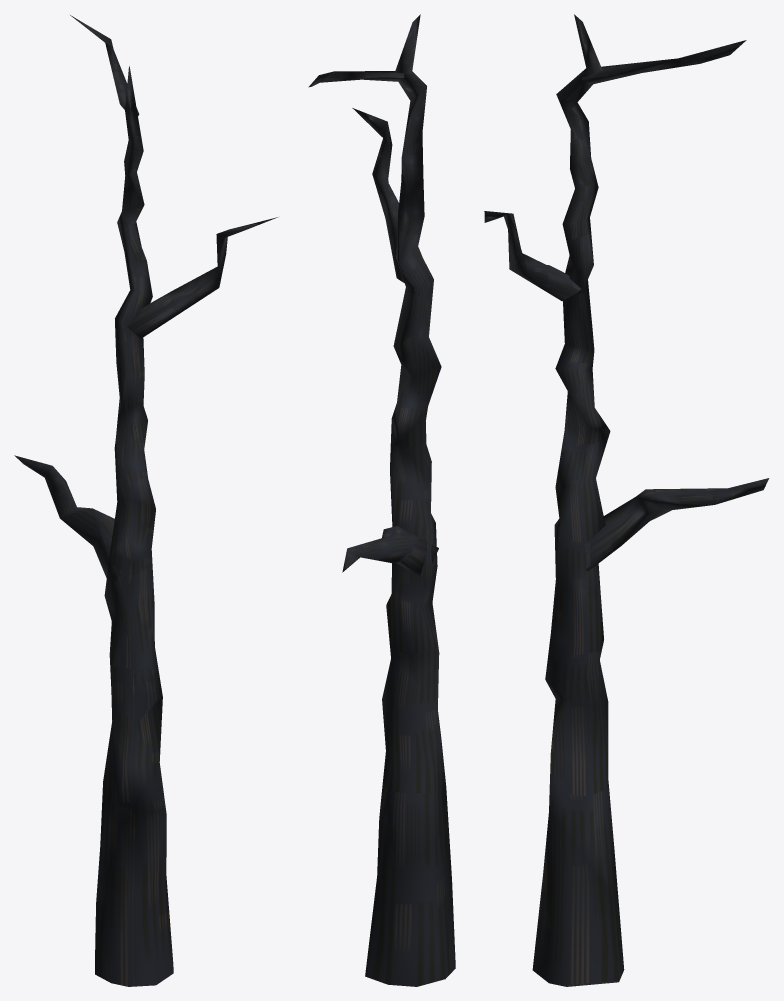
File: Branch1.fbx
3 renders of one model, left to right at view 1: azimuth 30°, elevation 25°; view 2: azimuth 150°, elevation 25°; view 3: azimuth 270°, elevation 25°, orthographic. The views are drawn at different scales.
Visible parts, largest first — view 1: geo1; view 2: geo1; view 3: geo1.
Boxes of the visible parts, x1,y1,x2,y2 form: geo1: (14,15,278,986); geo1: (308,14,455,986); geo1: (484,14,769,986).
Size of the model in its own units: 2.4 by 15.02 by 4.07.
